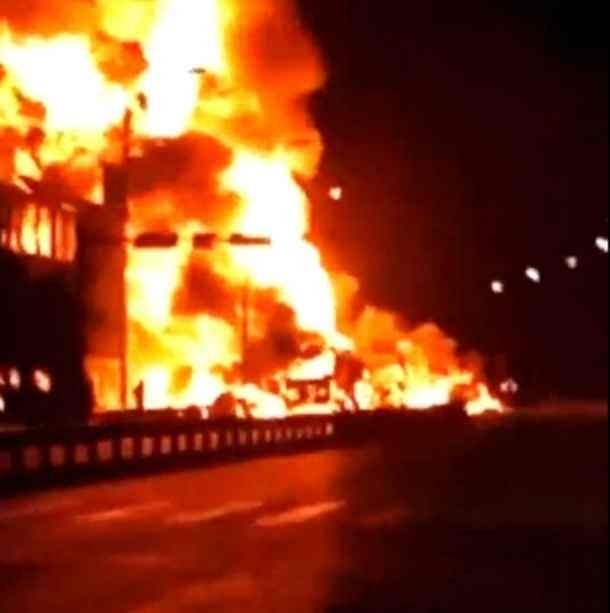fire: (20, 14, 421, 423)
